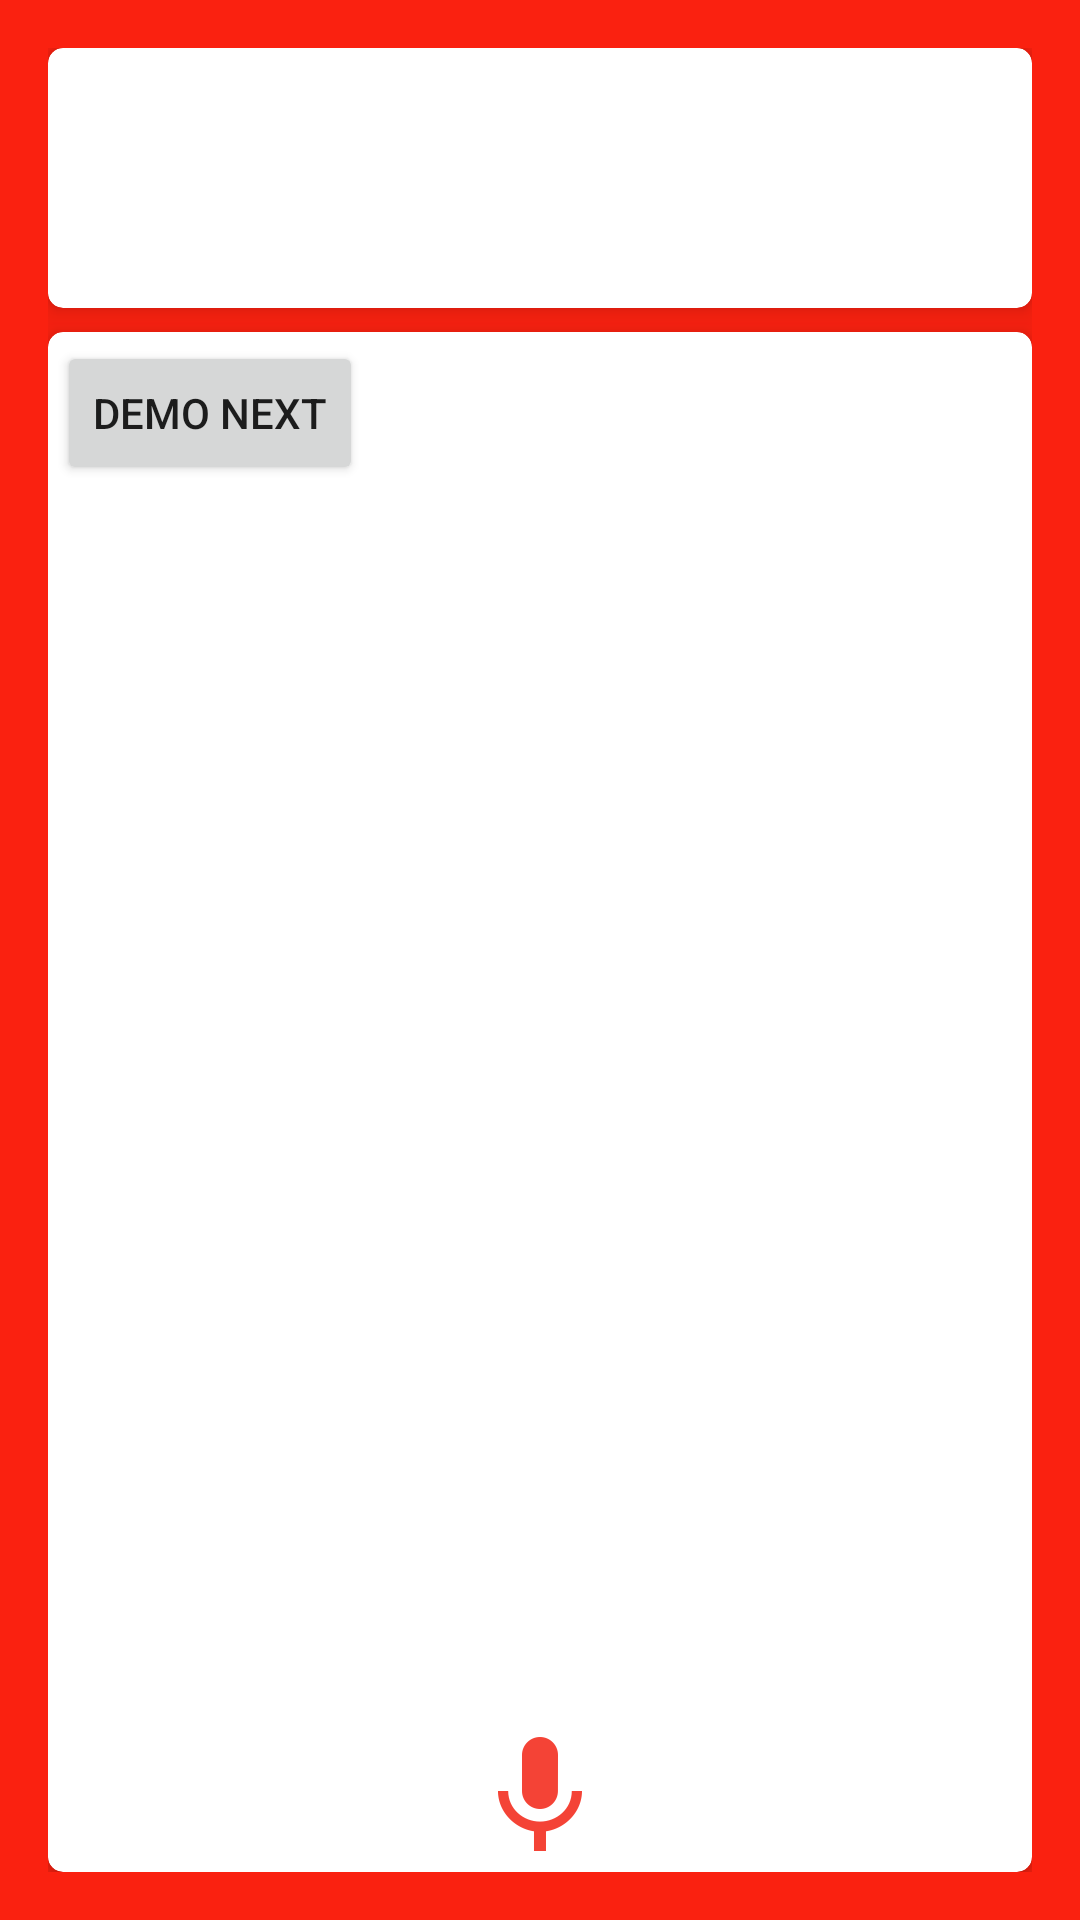

Icon bounding boxes for this 1080px x 1920px phone screenshot, format BBox(x1, y1, x2, y2):
keyboard voice: BBox(498, 1737, 582, 1851)
